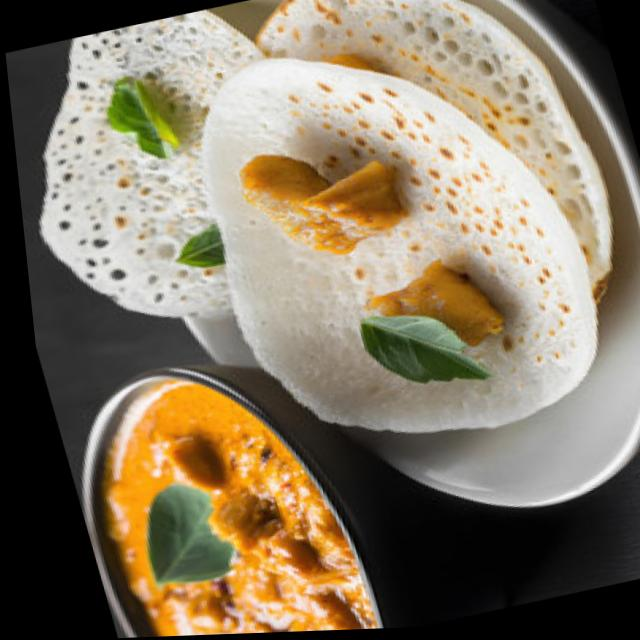AAPAM: (40, 0, 609, 429)
CURRY: (103, 378, 375, 637)
